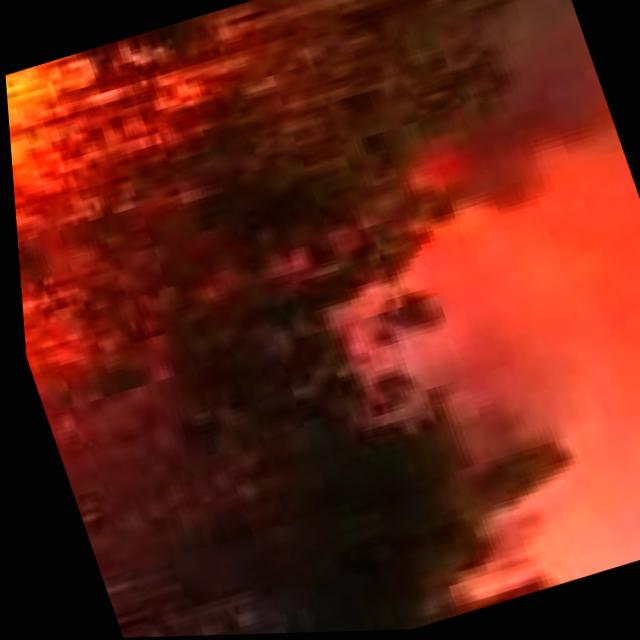fire: (3, 49, 191, 421)
